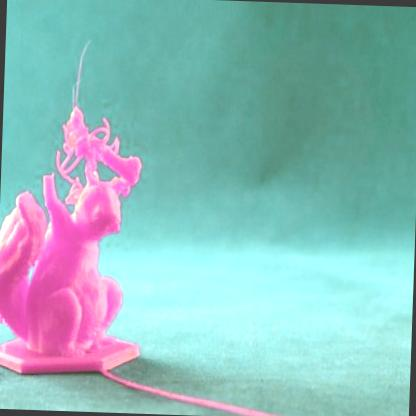fail: (42, 40, 112, 183)
